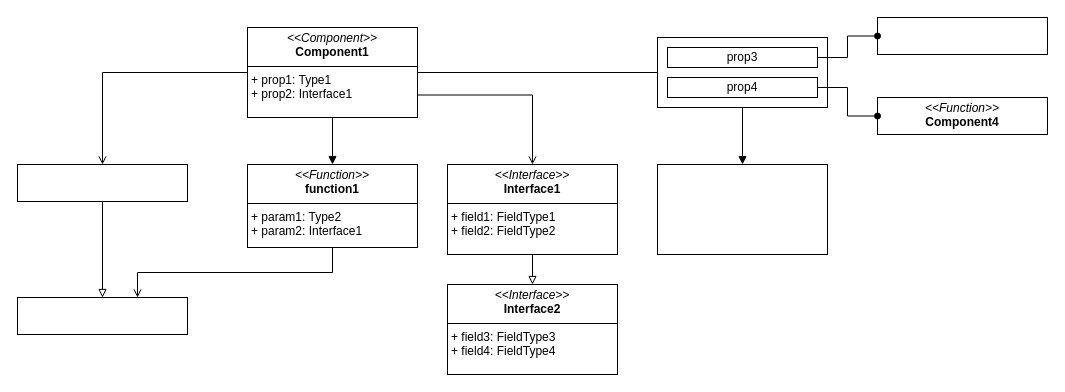
Some shapes in this 1065 by 392 pixel diagram are drawn without their labels. The box of each missing label's shape, as (x1, y1, x2, y2) in pixels:
<<Component>> Component2 + prop3: ReactNode + prop4: ReactNode: (656, 164, 828, 254)
<<Function>> Component3: (876, 16, 1048, 54)
<<Type>> Type1: (16, 164, 188, 202)
<<Type>> Type2: (16, 296, 188, 334)
